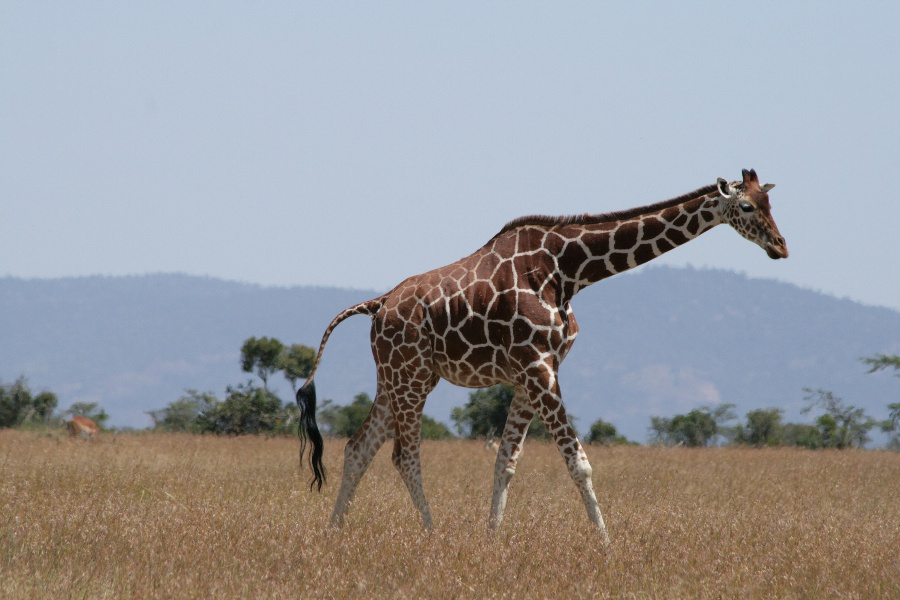giraffe: (314, 157, 796, 528)
